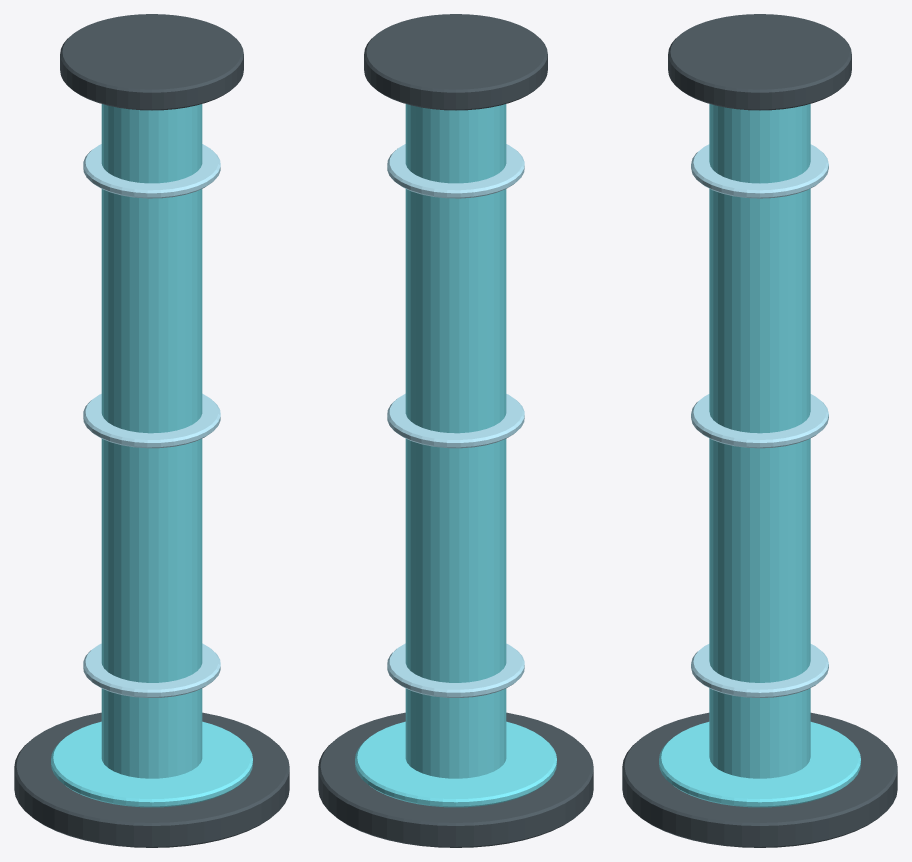
Rendered from SM_VexColumn.fbx.
The picture shows the model from 3 angles, left to right: view 1: azimuth 30°, elevation 25°; view 2: azimuth 150°, elevation 25°; view 3: azimuth 270°, elevation 25°; orthographic projection.
Visible parts, largest first — view 1: SM_VexColumn; view 2: SM_VexColumn; view 3: SM_VexColumn.
Boxes of the visible parts, x1=… form: SM_VexColumn: x1=14, y1=14, x2=289, y2=847; SM_VexColumn: x1=318, y1=14, x2=593, y2=847; SM_VexColumn: x1=622, y1=14, x2=897, y2=847.
Bounding box in the file's own units: 120 × 355 × 120.
